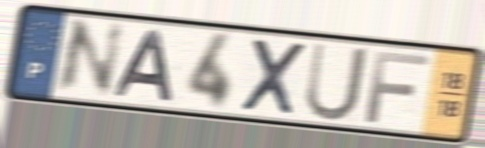4: (182, 29, 236, 114)
A: (111, 29, 177, 105)
F: (362, 49, 433, 126)
N: (50, 17, 128, 97)
U: (302, 40, 371, 125)
X: (237, 35, 310, 119)
